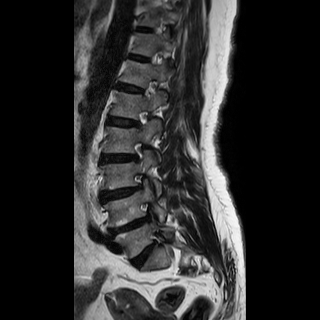LFS1: (126, 135, 151, 166), (131, 104, 153, 134)
LFS2: (127, 170, 153, 198)
